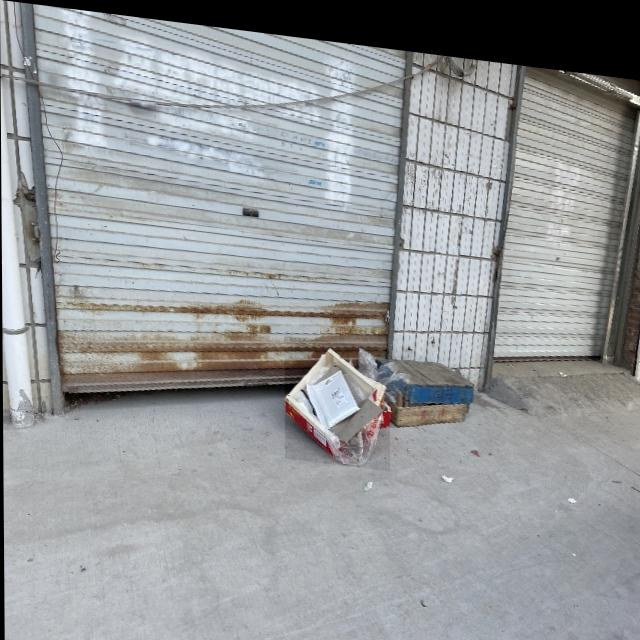garbage: (284, 328, 389, 461)
